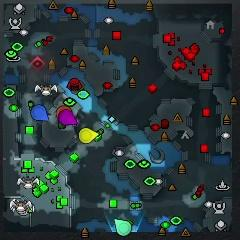p1: (31, 105, 48, 121)
p2: (115, 218, 132, 236)
p3: (59, 110, 77, 126)
p4: (79, 127, 97, 143)
p5: (56, 105, 72, 119)
